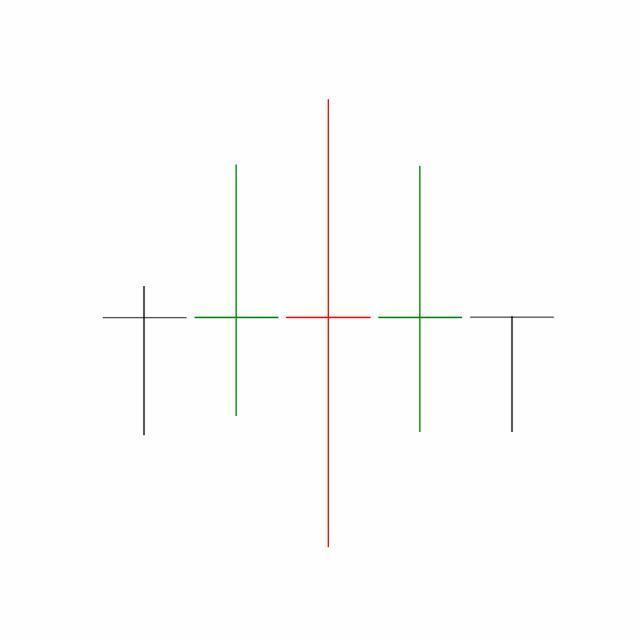Dragonfly Doji: (466, 315, 559, 434)
